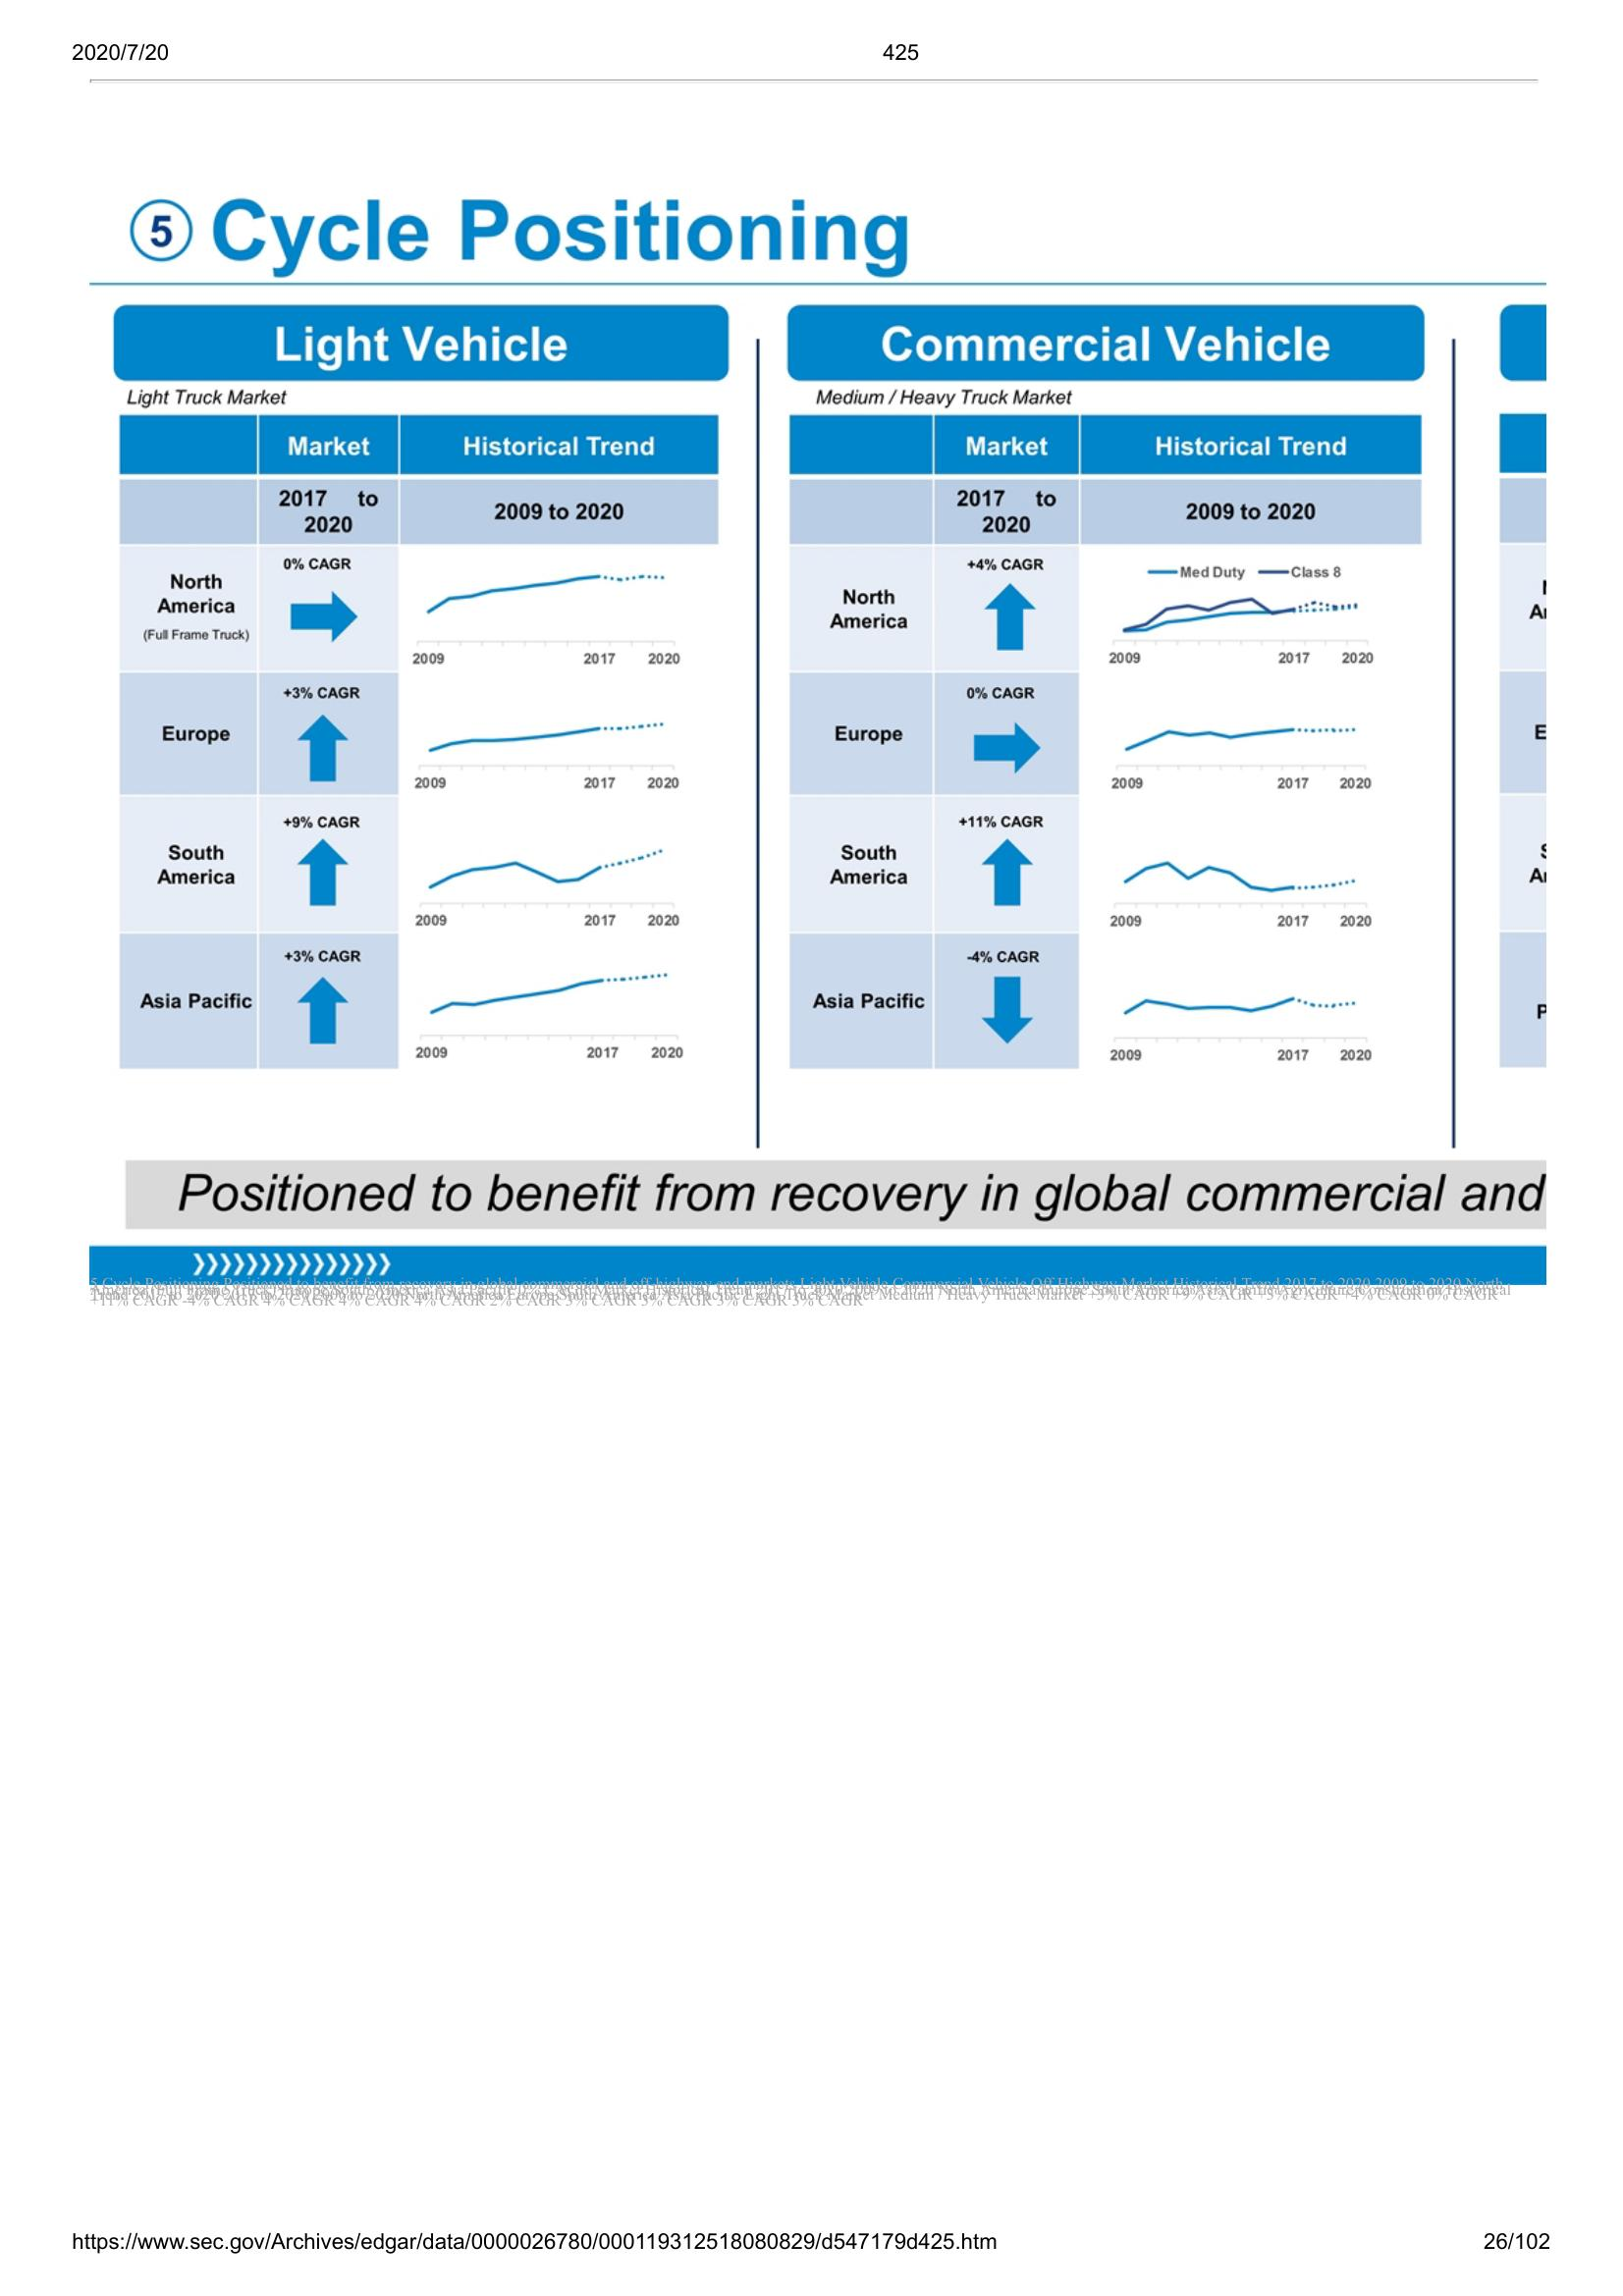table: (785, 411, 1426, 1067), (118, 411, 722, 1076)
